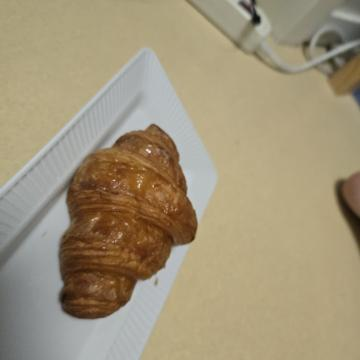croissant: (109, 150, 330, 311)
